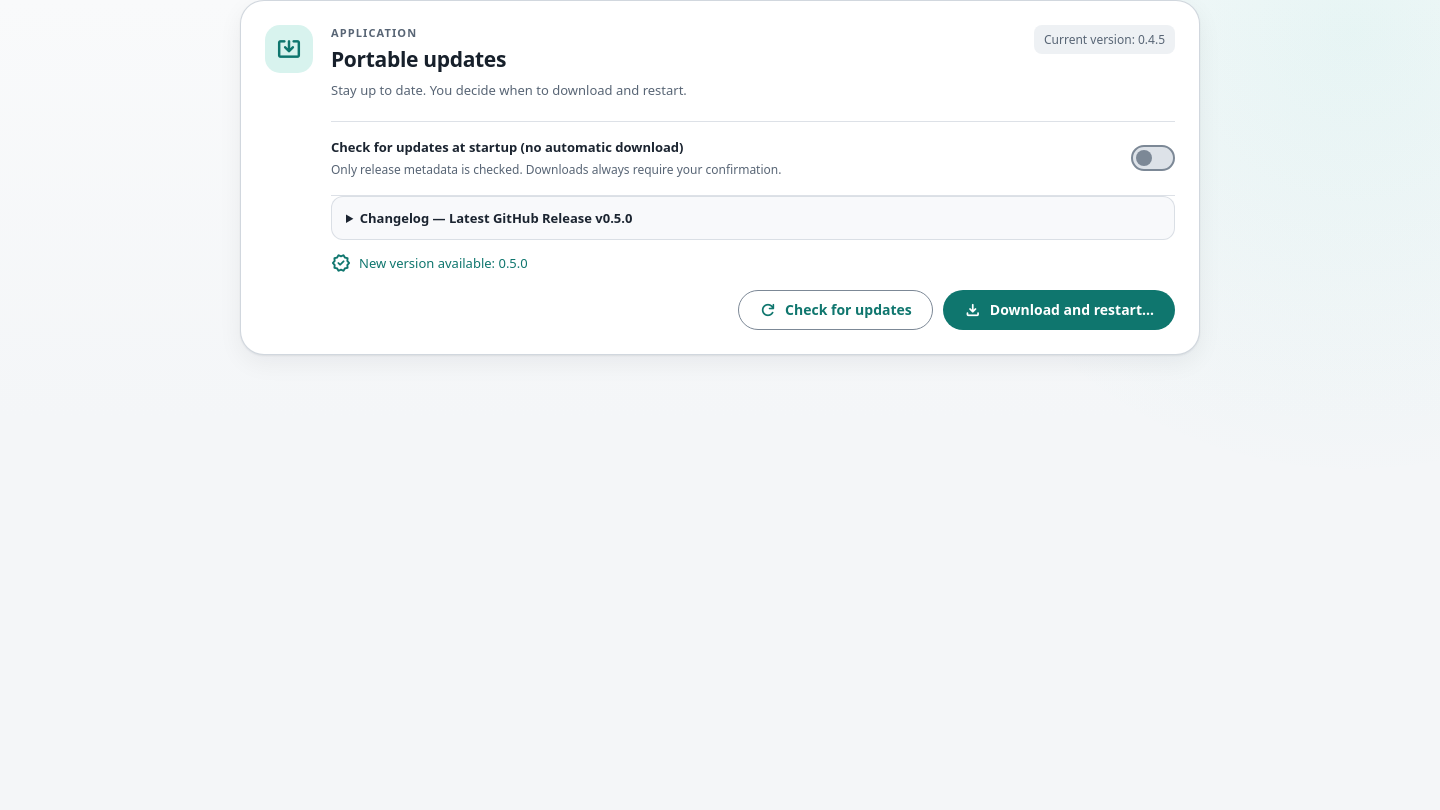
Test: sends only the snapshotted candidate and explicit consent and displays install errors
This screenshot has width=1440, height=810.
Click the button "Download and restart…".
click(1059, 310)  # box [943, 290, 1175, 330]
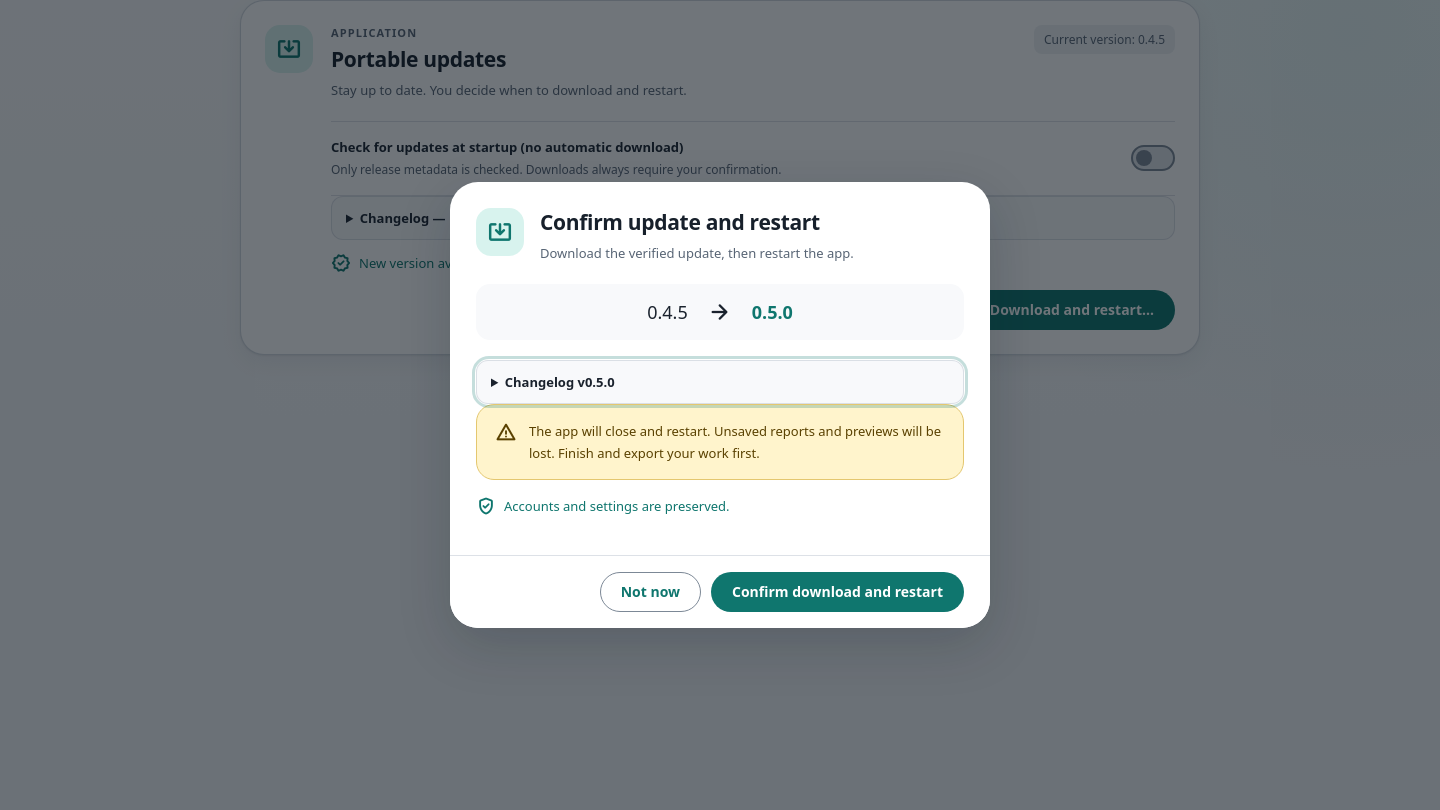
Click the button "Confirm download and restart".
click(838, 592)  # box [711, 572, 964, 612]
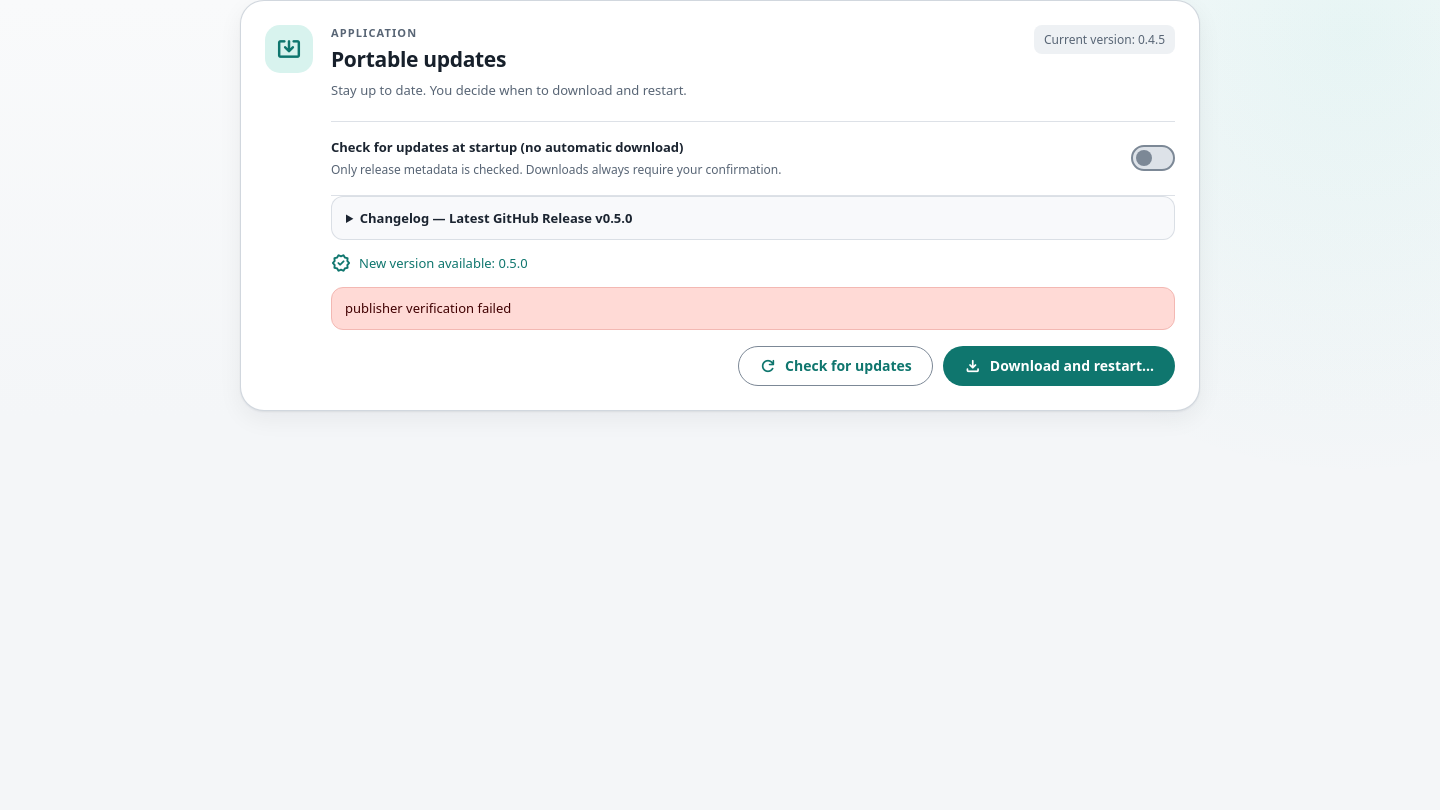
Expected: the text "publisher verification failed" is shown, [331, 287, 1175, 330]
Expected: the dialog is gone
